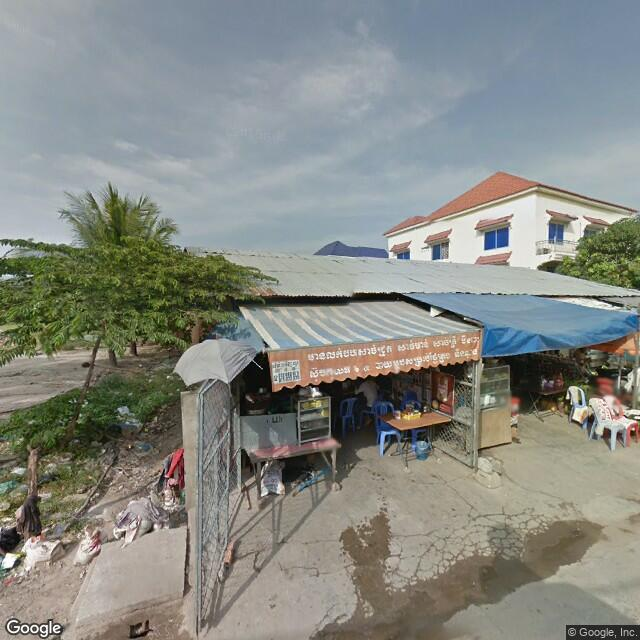litter: (114, 401, 147, 433), (1, 541, 27, 579), (9, 456, 24, 480)
